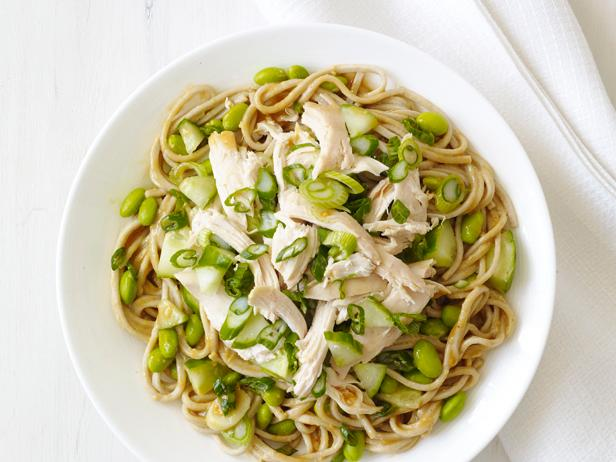Soba: (144, 84, 507, 450)
